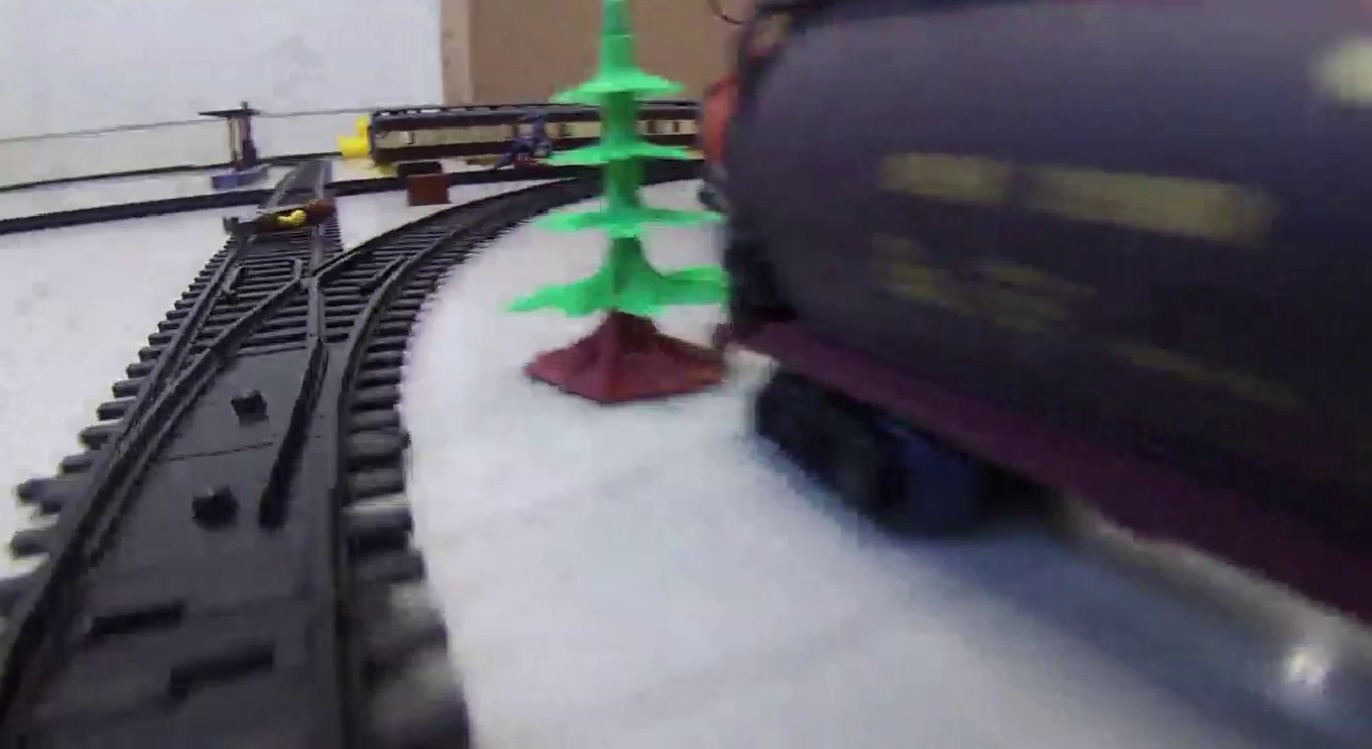box: (406, 170, 454, 207)
people: (220, 198, 339, 240)
tree: (504, 5, 721, 400)
